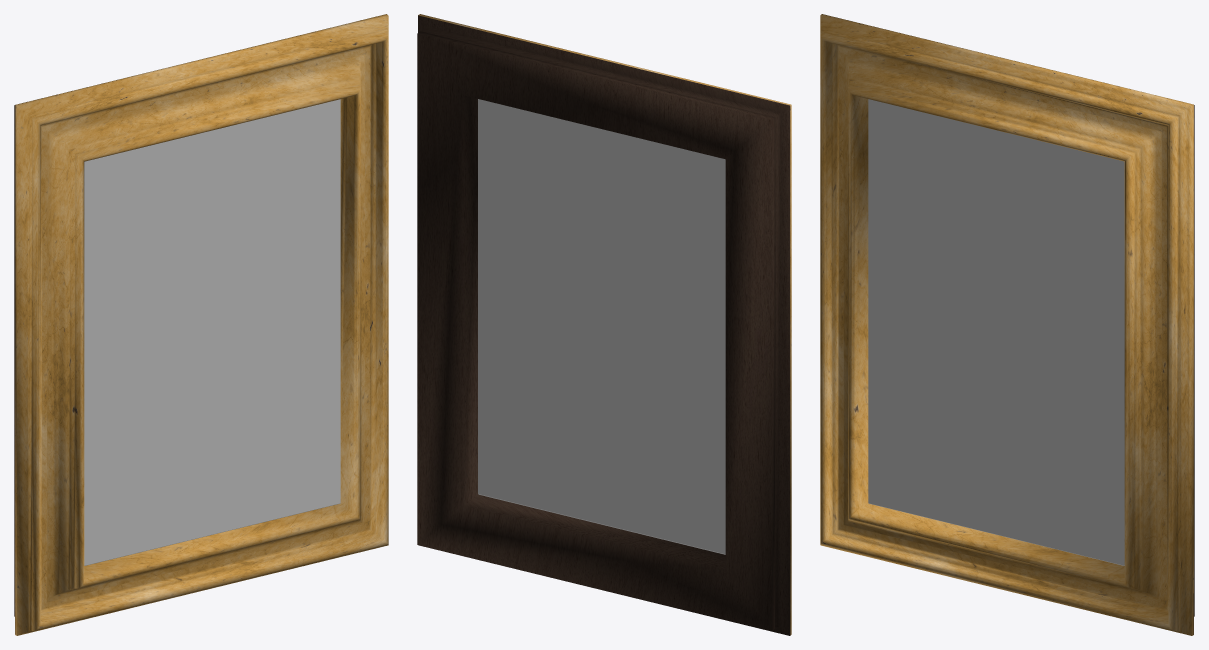
File: personal-mona-lisa.obj
The picture shows the model from 3 angles, left to right: view 1: azimuth 30°, elevation 25°; view 2: azimuth 150°, elevation 25°; view 3: azimuth 330°, elevation 25°; orthographic projection.
Parts seen in each view (by area): view 1: Mona_Lisa,_by_Leonardo_da_Vinci,_from_C2RMF_retouched, Plane_Plane.001; view 2: Plane_Plane.001, Mona_Lisa,_by_Leonardo_da_Vinci,_from_C2RMF_retouched; view 3: Mona_Lisa,_by_Leonardo_da_Vinci,_from_C2RMF_retouched, Plane_Plane.001.
Part boxes in pixels (x1=…): Mona_Lisa,_by_Leonardo_da_Vinci,_from_C2RMF_retouched: x1=84, y1=99, x2=340, y2=565; Plane_Plane.001: x1=14, y1=14, x2=388, y2=635; Plane_Plane.001: x1=417, y1=14, x2=791, y2=635; Mona_Lisa,_by_Leonardo_da_Vinci,_from_C2RMF_retouched: x1=478, y1=99, x2=725, y2=554; Mona_Lisa,_by_Leonardo_da_Vinci,_from_C2RMF_retouched: x1=868, y1=99, x2=1124, y2=565; Plane_Plane.001: x1=820, y1=14, x2=1194, y2=635.
Size of what is drawn, in the model's own units: 5.61 by 7.65 by 0.7662.
Materials: 4 (2 with a texture image).
